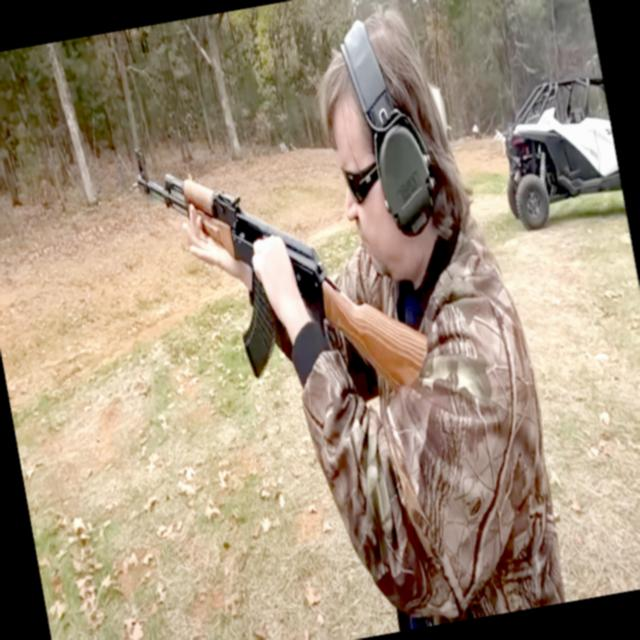ak: (124, 91, 446, 439)
